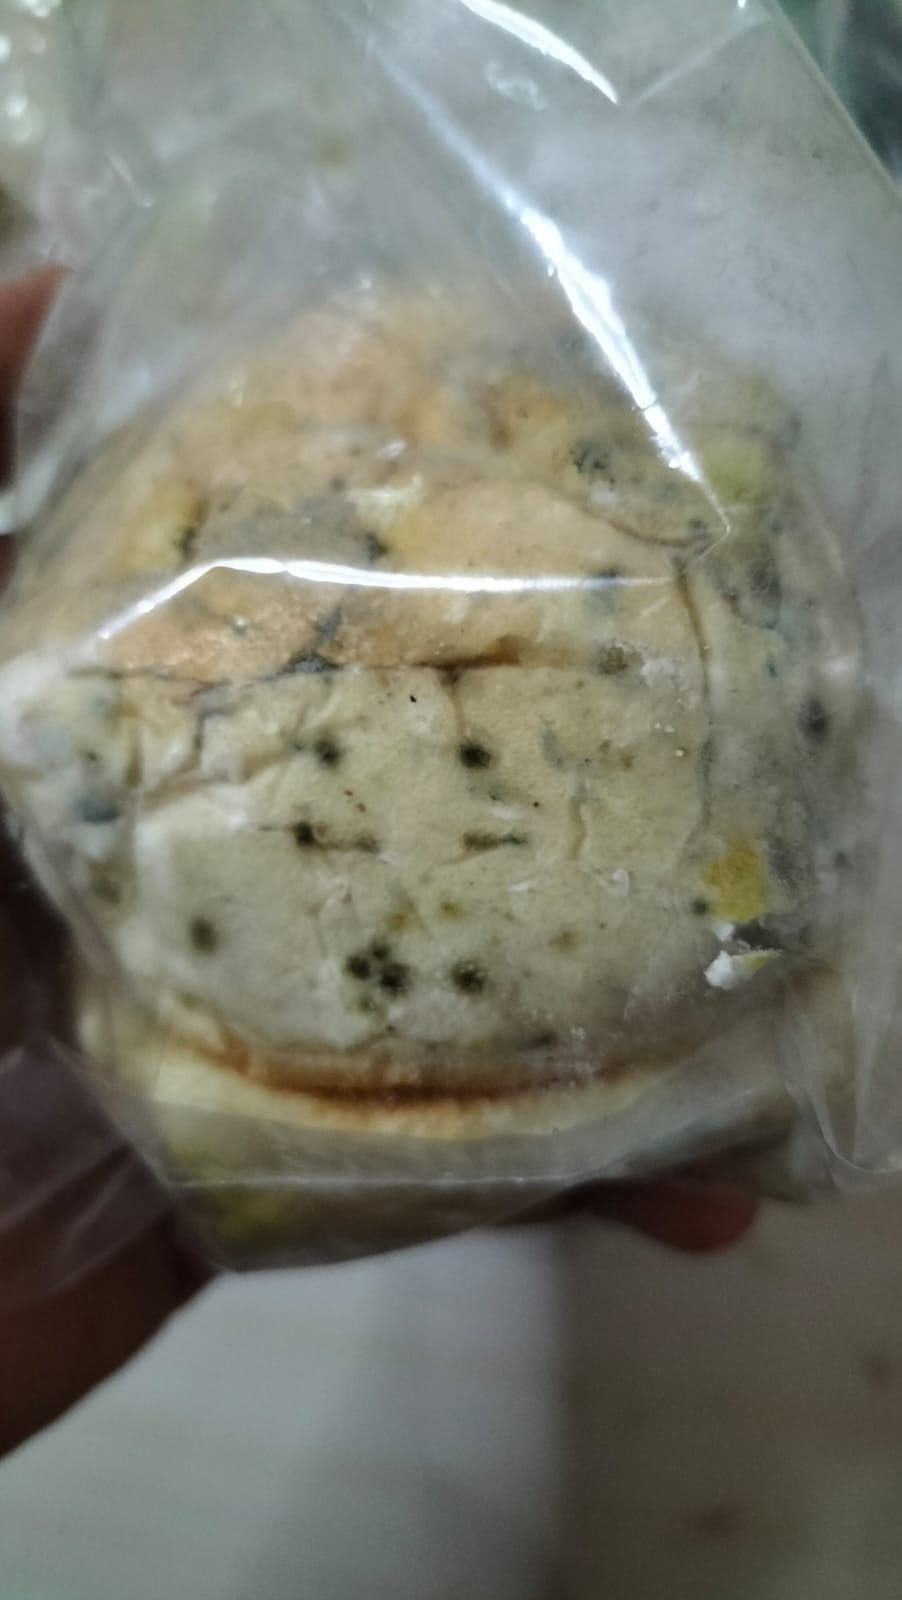mold_bread: (338, 926, 420, 1026), (286, 603, 355, 684), (278, 719, 356, 771), (570, 562, 633, 621), (275, 807, 334, 863), (444, 949, 493, 1009), (570, 432, 619, 486), (450, 734, 504, 776), (182, 914, 223, 962), (679, 891, 715, 919)
